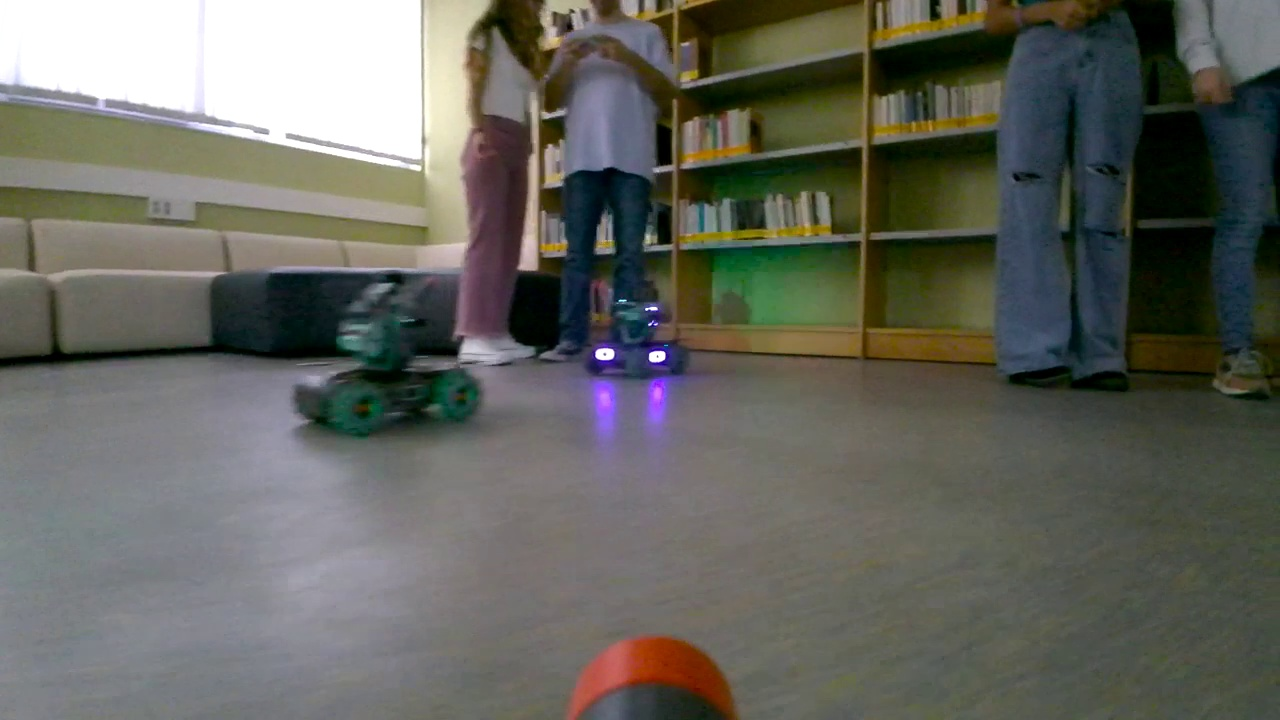robot: (290, 270, 481, 435), (582, 296, 691, 379)
